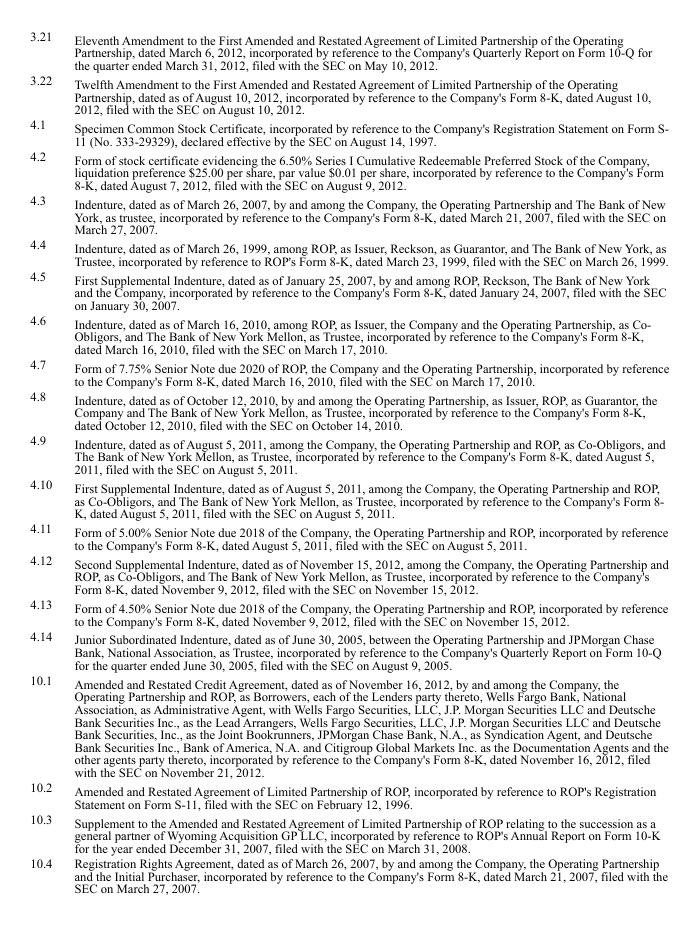table: (29, 28, 668, 895)
table column: (62, 28, 668, 895), (29, 28, 62, 895)
table row: (29, 672, 668, 779), (29, 627, 668, 672), (29, 810, 668, 855), (29, 28, 668, 72), (29, 72, 668, 116), (29, 148, 668, 192), (29, 192, 668, 236), (29, 268, 668, 312), (29, 312, 668, 356), (29, 388, 668, 432), (29, 432, 668, 476), (29, 476, 668, 520), (29, 552, 668, 596), (29, 855, 668, 895), (29, 116, 668, 148), (29, 236, 668, 268), (29, 356, 668, 388), (29, 520, 668, 552), (29, 596, 668, 627), (29, 779, 668, 810)
